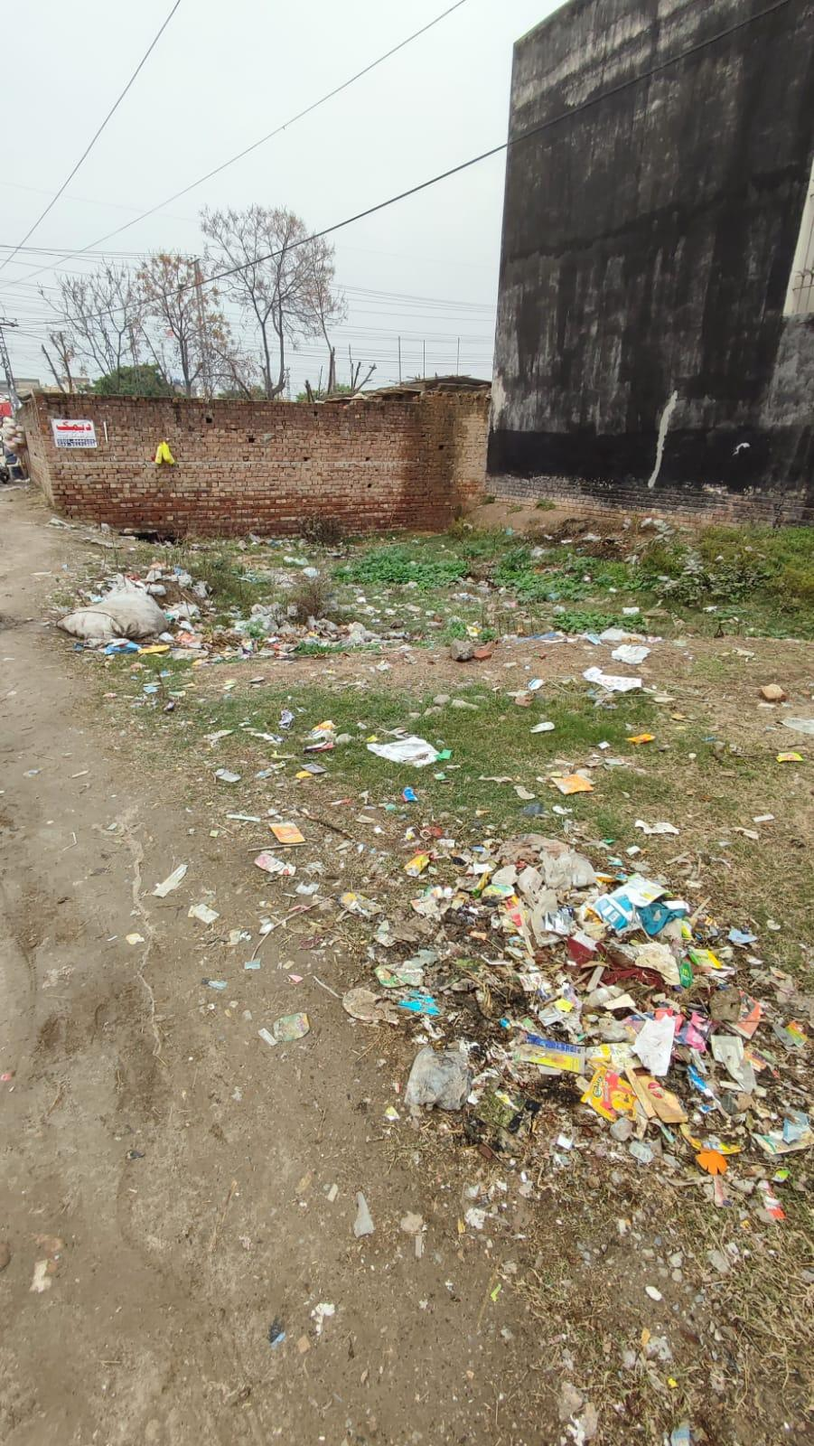garbage: (311, 774, 814, 1302), (70, 543, 589, 671)
